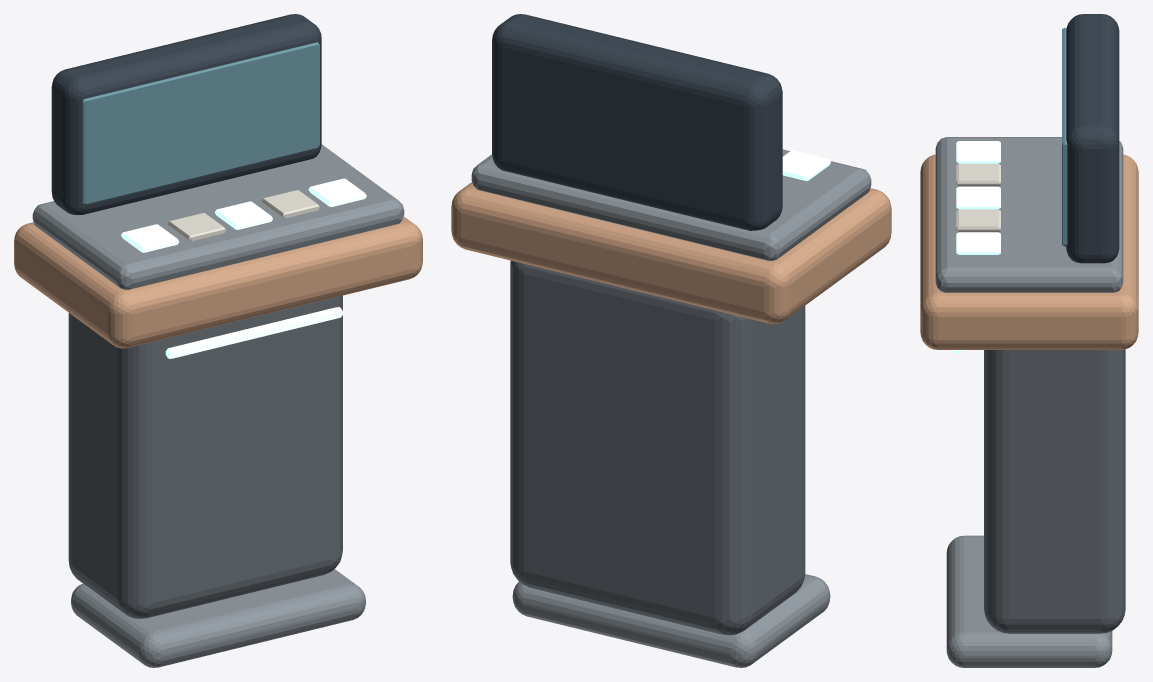
File: wall_service_terminal.glb
3 views of the same model, side by side, from view 1: azimuth 30°, elevation 25°; view 2: azimuth 150°, elevation 25°; view 3: azimuth 270°, elevation 25° (orthographic). The views are drawn at different scales.
Parts seen in each view (by area): view 1: shell_002, shell_006, shell_003, shell_004, shell_005, shell_001, shell_012, control_007, control_010, control_009, control_011, control_008; view 2: shell_002, shell_005, shell_003, shell_004, shell_001, control_007; view 3: shell_002, shell_004, shell_003, shell_005, shell_001, shell_006, control_008, control_009, control_007, control_010, control_011.
Boxes of the visible parts, x1,y1,x2,y2 form: shell_002: (68,295,342,618); shell_006: (81,42,319,204); shell_003: (14,216,422,348); shell_004: (32,144,404,289); shell_005: (51,14,321,215); shell_001: (71,569,365,667); shell_012: (165,307,343,358); control_007: (121,224,179,252); control_010: (261,190,319,218); control_009: (215,201,272,229); control_011: (308,178,366,206); control_008: (168,213,225,241); shell_002: (510,260,805,635); shell_005: (492,14,782,230); shell_003: (451,182,891,323); shell_004: (471,149,871,260); shell_001: (512,574,830,667); control_007: (782,150,830,180); shell_002: (984,349,1125,633); shell_004: (935,137,1123,292); shell_003: (920,154,1138,349); shell_005: (1066,14,1119,263); shell_001: (946,535,1112,667); shell_006: (1062,27,1067,246); control_008: (956,163,1000,186); control_009: (956,186,1000,209); control_007: (956,141,1000,163); control_010: (956,209,1000,231); control_011: (956,232,1000,254).
Bounding box in the file's own units: 0.71 × 1.19 × 0.43.
